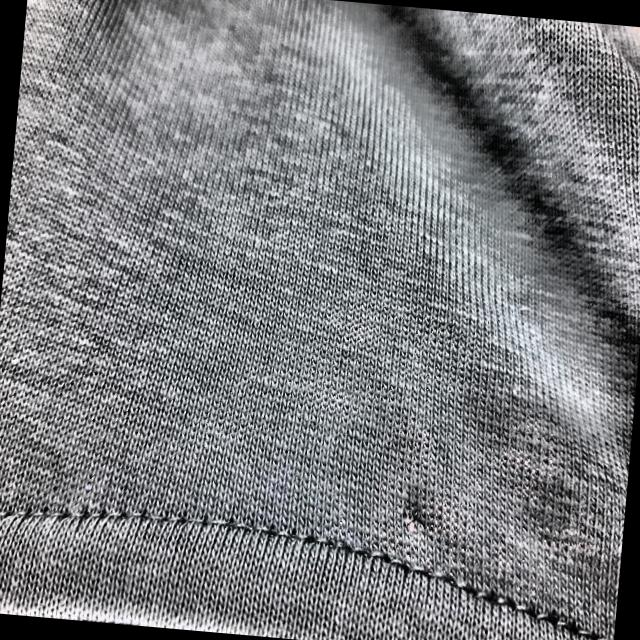cut: (392, 488, 436, 546)
